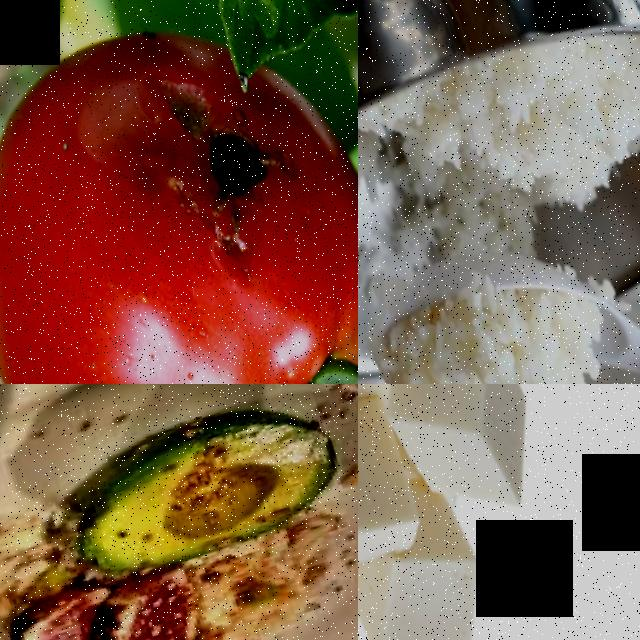tofu: (365, 384, 552, 547), (358, 385, 422, 585)
tomato: (0, 0, 358, 384)
white rice: (408, 23, 640, 224), (363, 263, 604, 384)
